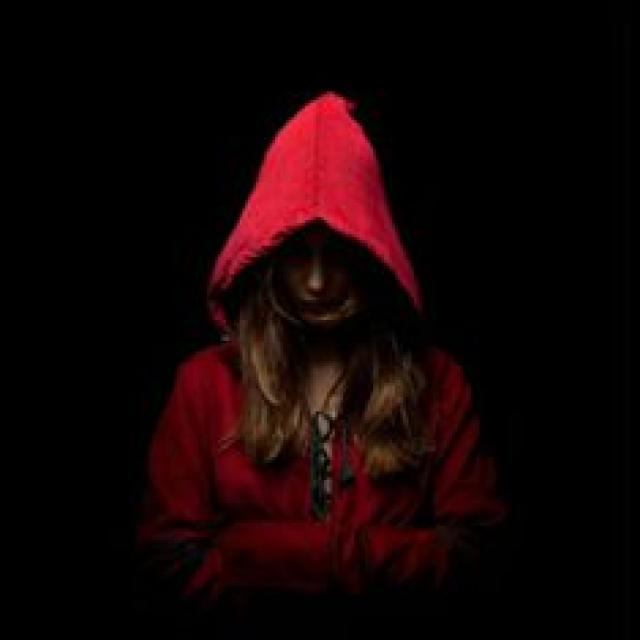4_capucha: (201, 93, 434, 347)
